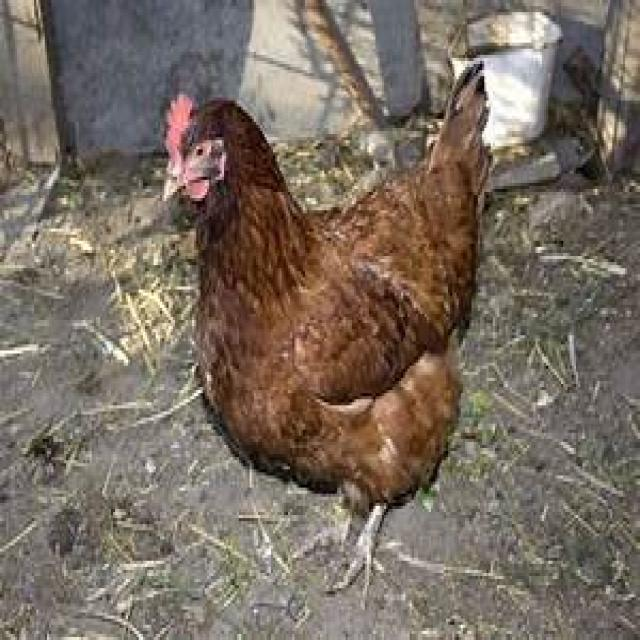hen: (164, 61, 493, 549)
